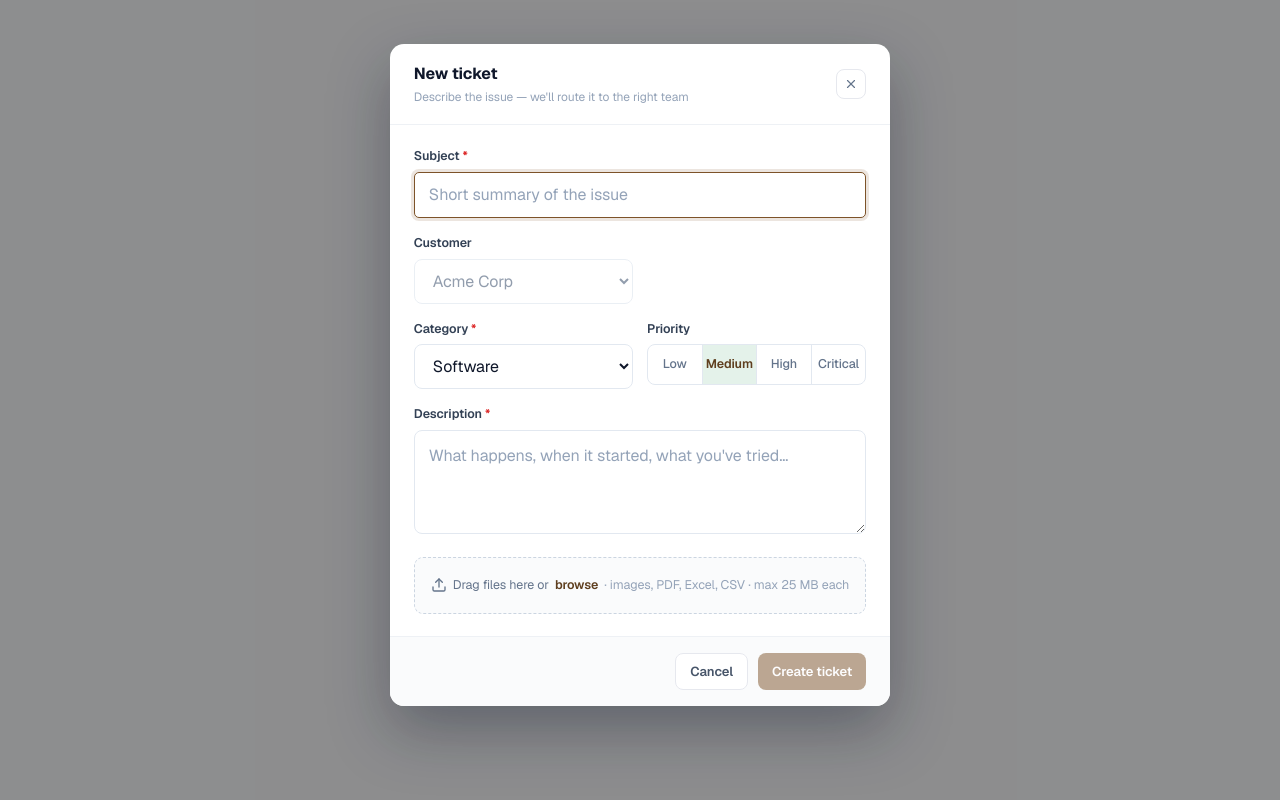
a form with something in it › asks on the close button too
Type "printer on fire" into the field labelled "Subject *" at (640, 195), box [414,172,866,218]
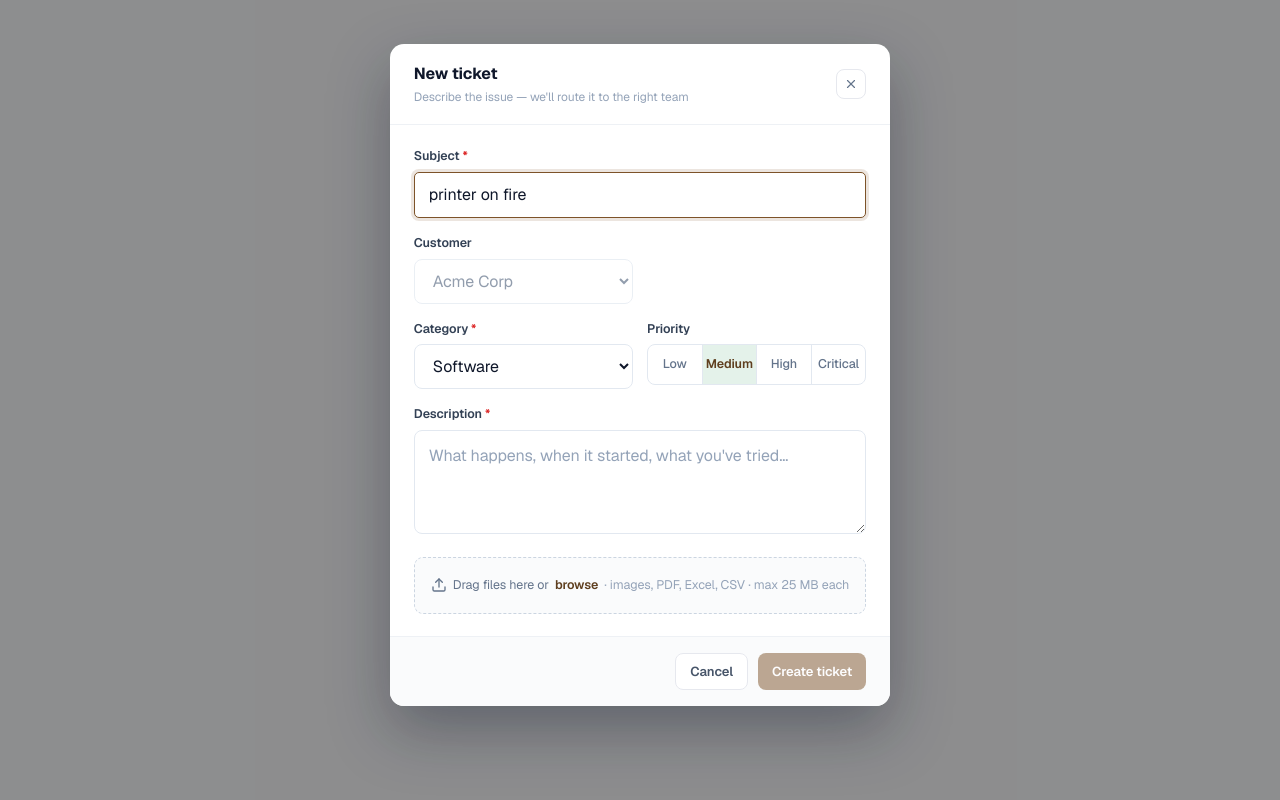
Click the button named "Close" at (851, 84), box [836,69,866,99]
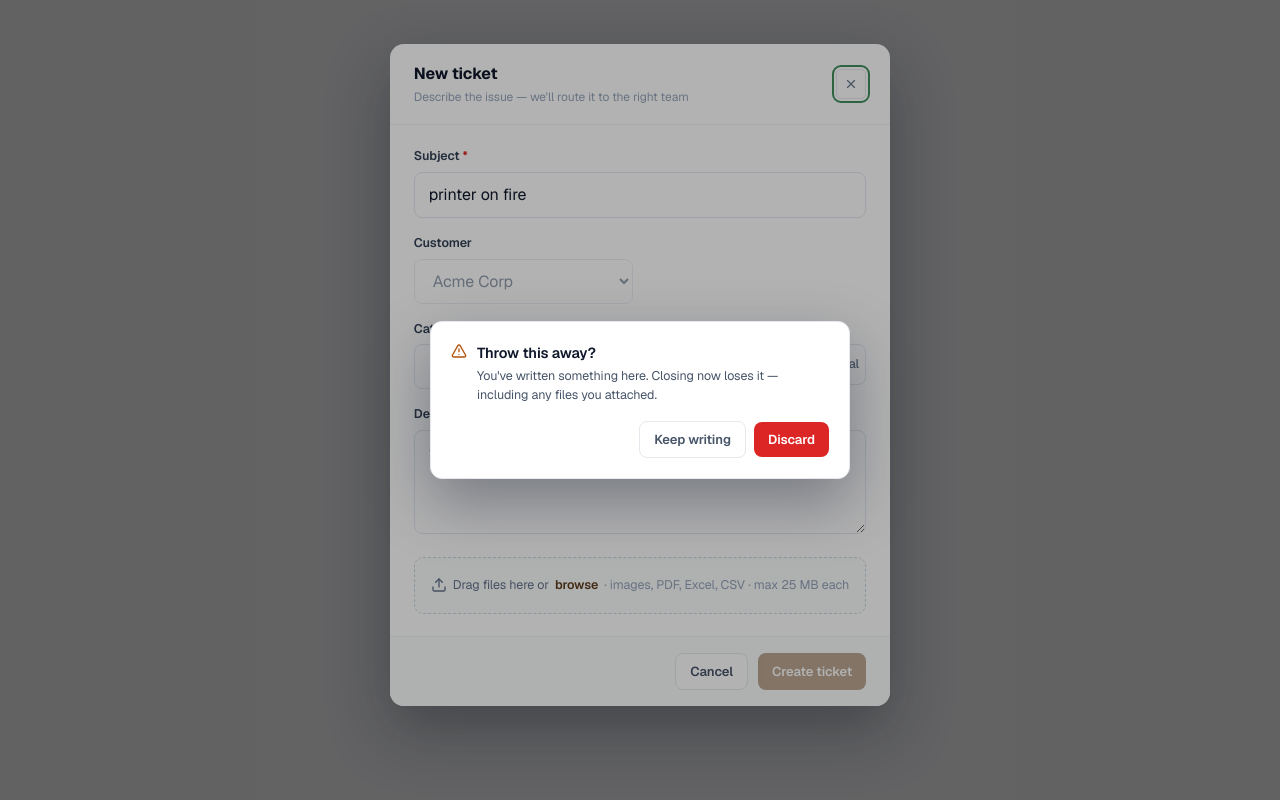
Result: the text "Throw this away?" is shown at [477,343,596,362]
